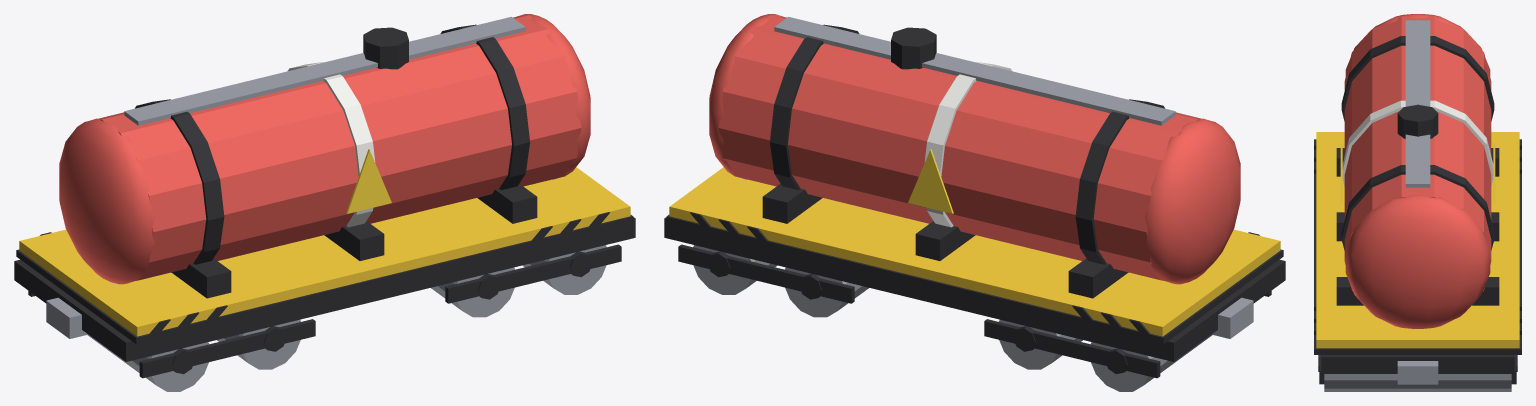
File: Cargo_fuel.fbx
3 views of the same model, side by side, from view 1: azimuth 30°, elevation 25°; view 2: azimuth 150°, elevation 25°; view 3: azimuth 270°, elevation 25° (orthographic). The views are drawn at different scales.
Parts seen in each view (by area): view 1: Cargo_fuel; view 2: Cargo_fuel; view 3: Cargo_fuel.
Part boxes in pixels (x1=…): Cargo_fuel: x1=14, y1=14, x2=635, y2=391; Cargo_fuel: x1=664, y1=14, x2=1285, y2=391; Cargo_fuel: x1=1314, y1=14, x2=1521, y2=391.
Bounding box in the file's own units: 5.24 × 2.36 × 2.04.
